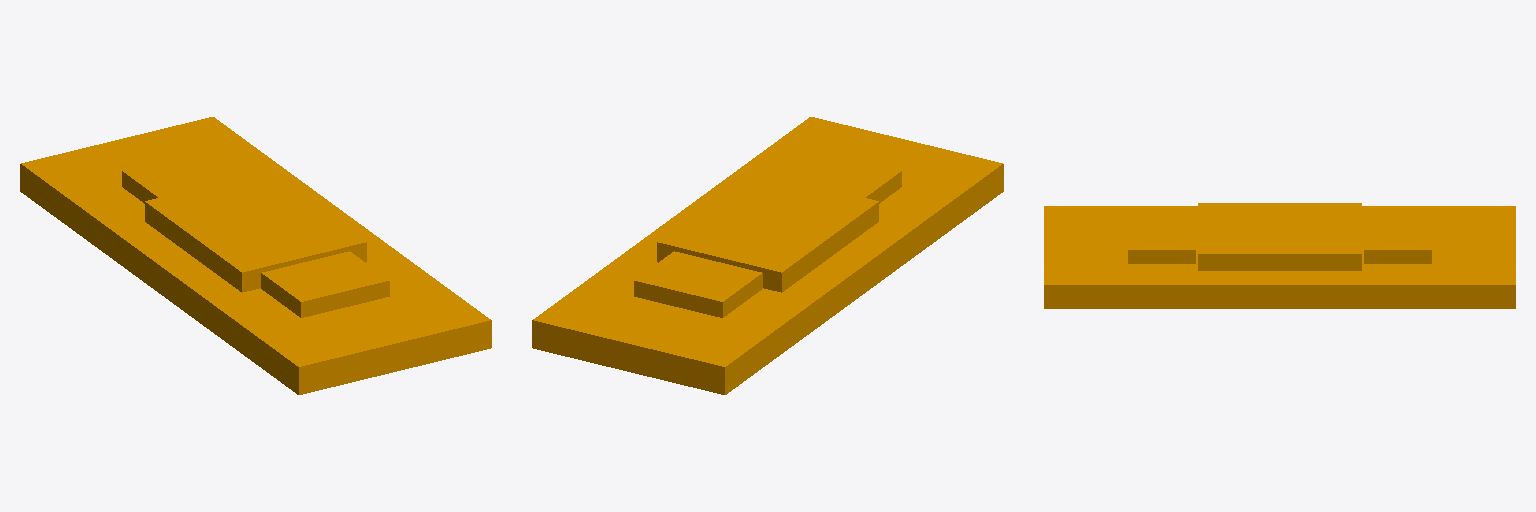
robot.urdf — observation_wheel:
<robot name="observation_wheel">
  <link name="support">
    <inertial>
      <origin xyz="0 0 0.14" rpy="0 0 0" />
      <mass value="4800" />
      <inertia ixx="10031.4" ixy="0" ixz="0" iyy="1631.36" iyz="0" izz="11600" />
      </inertial>
    <visual>
      <origin xyz="0 0 0.14" rpy="0 0 0" />
      <geometry>
        <box size="2 5 0.28" />
        </geometry>
      </visual>
    <visual>
      <origin xyz="0 0 0.38" rpy="0 0 0" />
      <geometry>
        <box size="1.3 1.75 0.2" />
        </geometry>
      </visual>
    <visual>
      <origin xyz="0 -1.25 0.36" rpy="0 0 0" />
      <geometry>
        <box size="0.92 0.72 0.16" />
        </geometry>
      </visual>
    <visual>
      <origin xyz="0 1.25 0.36" rpy="0 0 0" />
      <geometry>
        <box size="0.92 0.72 0.16" />
        </geometry>
      </visual>
    <visual>
      <geometry>
        <mesh filename="assets/meshes/support_frame.obj" />
        </geometry>
      </visual>
    </link>
  <link name="wheel">
    <inertial>
      <mass value="2600" />
      <inertia ixx="18054.8" ixy="0" ixz="0" iyy="9832.33" iyz="0" izz="8434.83" />
      </inertial>
    <visual>
      <geometry>
        <mesh filename="assets/meshes/wheel_assembly.obj" />
        </geometry>
      </visual>
    </link>
  <joint name="wheel_spin" type="continuous">
    <origin xyz="0 0 3.75" rpy="0 0 0" />
    <parent link="support" />
    <child link="wheel" />
    <axis xyz="1 0 0" />
    <limit effort="18000" velocity="0.45" />
    </joint>
  </robot>

--- Render facts (derived) ---
3 views of the same robot in one strip: view 1: azimuth 30°, elevation 25°; view 2: azimuth 150°, elevation 25°; view 3: azimuth 270°, elevation 25° (orthographic).
Robot: observation_wheel — 2 links, 1 joints (1 continuous); root link support; default pose: all joints at 0.
Links seen in each view (by area): view 1: support; view 2: support; view 3: support.
Boxes of the visible links, bbox=[...] form: support: bbox=[20, 117, 491, 394]; support: bbox=[532, 117, 1003, 394]; support: bbox=[1044, 203, 1515, 308].
Size in the robot's own frame: 2 by 5 by 0.48 metres.
0 mesh visuals loaded from 2 distinct referenced files (none loaded); not drawn: 2 (reference not matched to a file when rendering).
